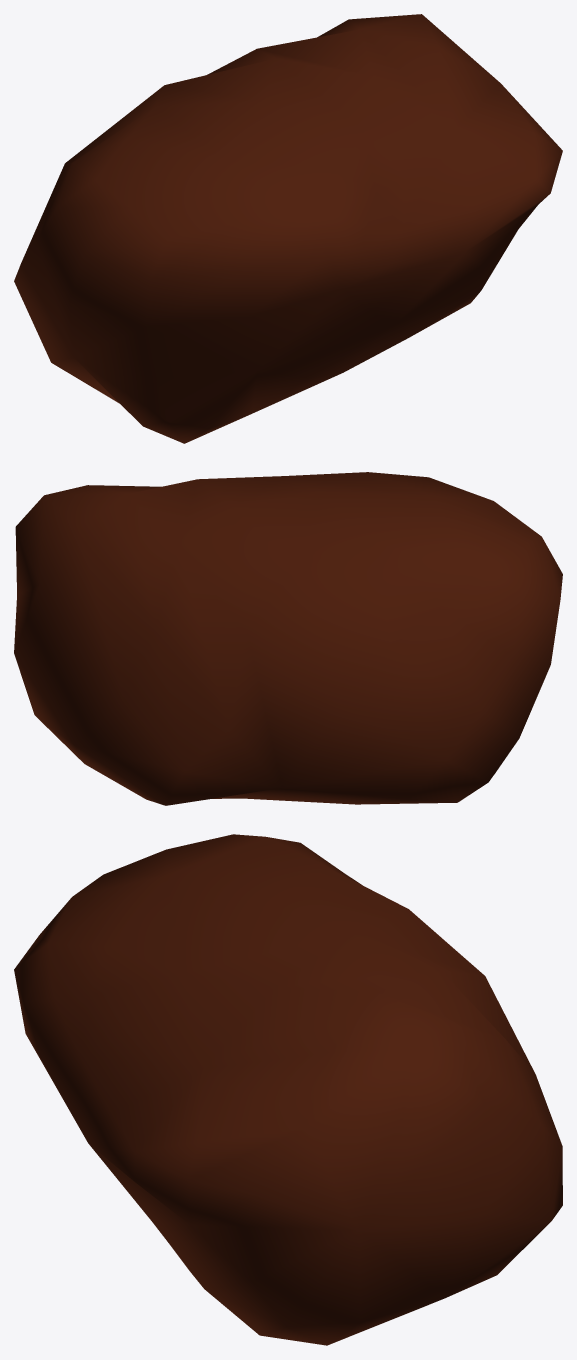
Rendered from choc_1.fbx.
3 views of the same model, one above another, from view 1: azimuth 30°, elevation 25°; view 2: azimuth 150°, elevation 25°; view 3: azimuth 270°, elevation 25° (orthographic). The views are drawn at different scales.
Parts seen in each view (by area): view 1: choc_1; view 2: choc_1; view 3: choc_1.
Part boxes in pixels (x1,y1,x2,y2): choc_1: (14, 14, 562, 443); choc_1: (14, 472, 562, 805); choc_1: (14, 834, 562, 1345).
Bounding box in the file's own units: 5.02 × 2.87 × 4.04.
